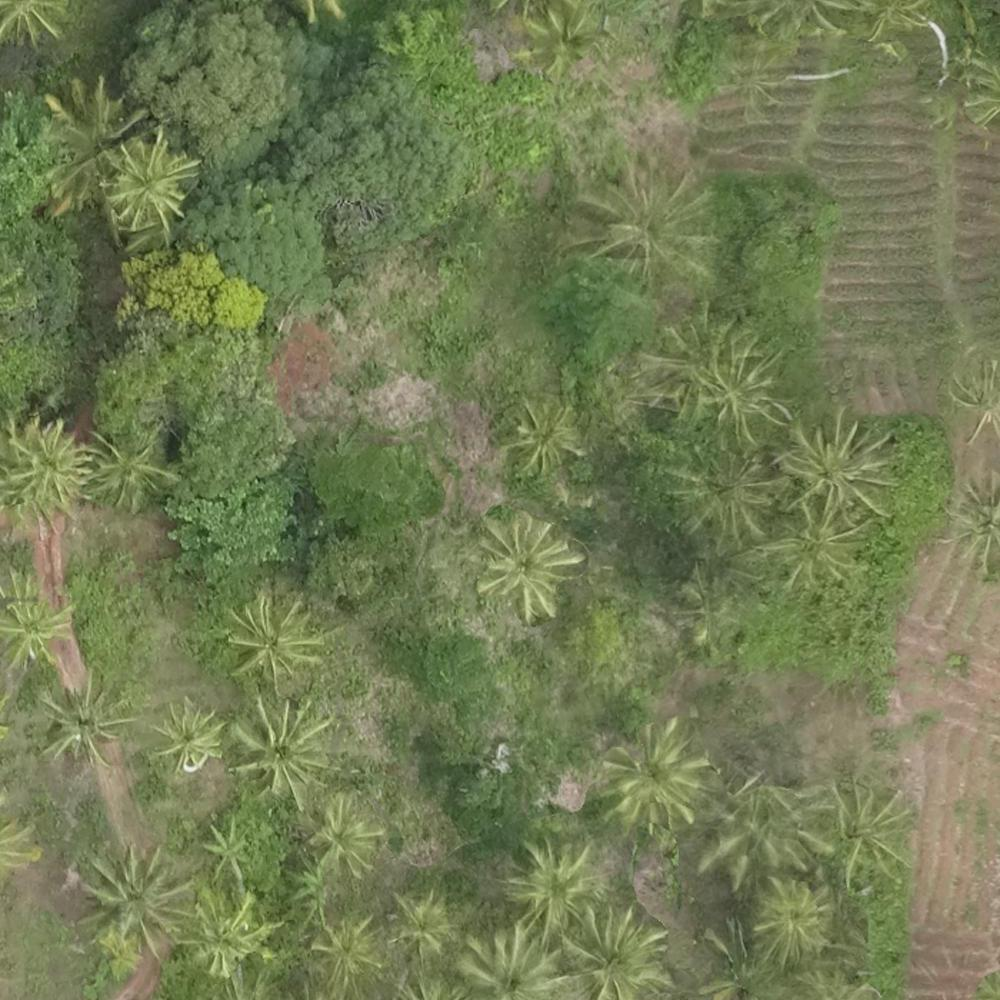Palm: (584, 159, 712, 283), (784, 416, 901, 529), (814, 776, 911, 888), (81, 847, 185, 951), (472, 514, 578, 616), (603, 727, 705, 828), (561, 907, 671, 1000), (232, 697, 331, 799), (41, 86, 131, 194), (222, 595, 327, 683), (769, 502, 866, 594), (184, 886, 274, 976), (35, 676, 126, 765), (508, 839, 596, 930), (80, 422, 172, 509), (7, 421, 86, 522), (458, 925, 561, 996), (107, 140, 190, 228), (1, 568, 70, 669), (309, 795, 388, 882), (749, 877, 830, 956), (502, 399, 579, 474), (154, 696, 229, 768), (308, 921, 380, 993), (383, 892, 454, 957), (193, 825, 259, 885)
